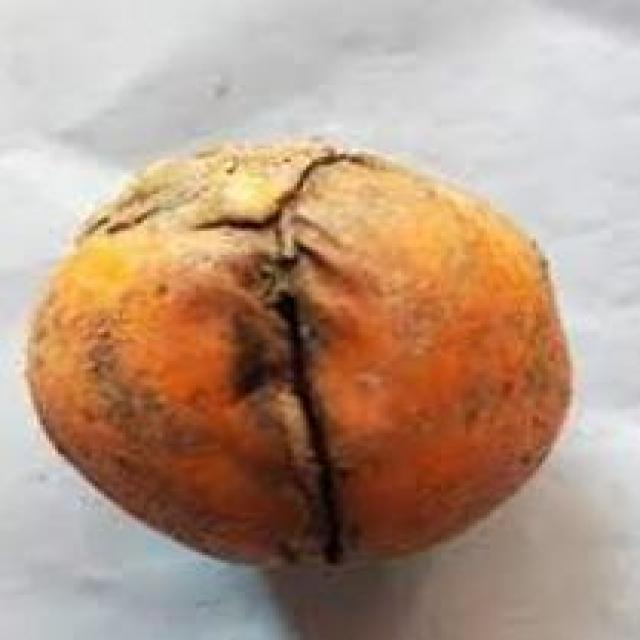damaged: (21, 138, 582, 574)
